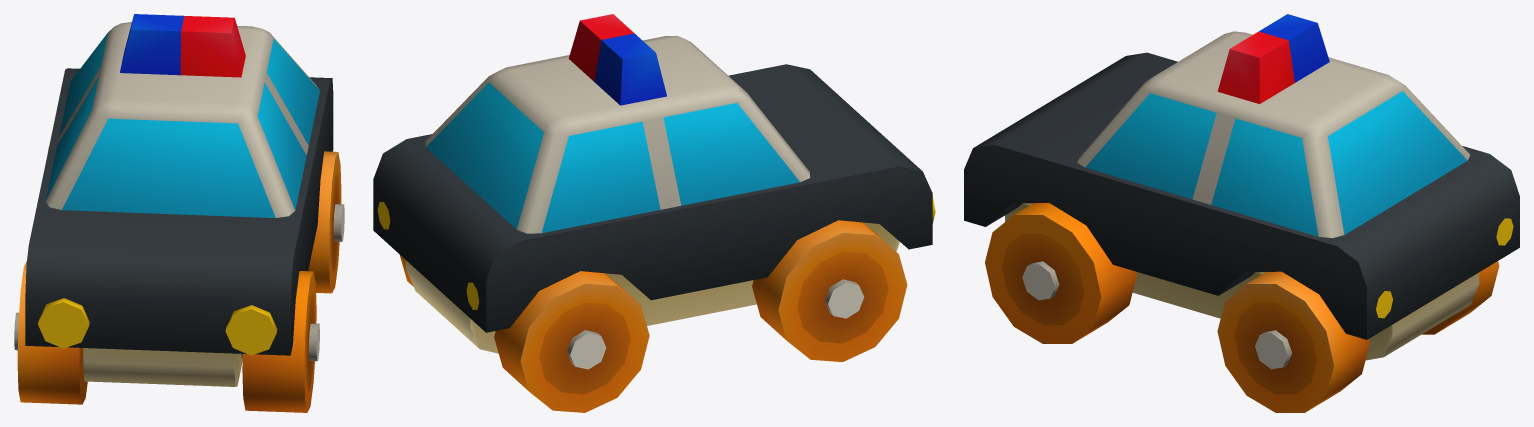
File: PoliceCar.fbx
3 renders of one model, left to right at view 1: azimuth 30°, elevation 25°; view 2: azimuth 150°, elevation 25°; view 3: azimuth 270°, elevation 25°, orthographic.
Visible parts, largest first — view 1: PoliceCar; view 2: PoliceCar; view 3: PoliceCar.
Part boxes in pixels (left/top/right/bottom): PoliceCar: left=14, top=14, right=344, bottom=412; PoliceCar: left=373, top=14, right=935, bottom=412; PoliceCar: left=964, top=14, right=1519, bottom=412.
Bounding box in the file's own units: 2264 × 1508 × 2515.
Materials: 1 (1 with a texture image).
